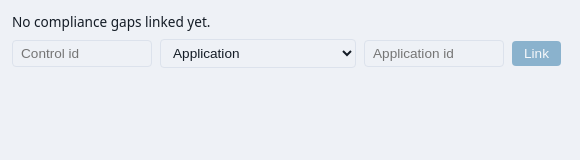
InitiativeControlMappingEditor › surfaces a 409 as 'Already linked'
Type "CTRL-1" into the field with placeholder "Control id" at coordinates (82, 53), box [12,40,152,67]
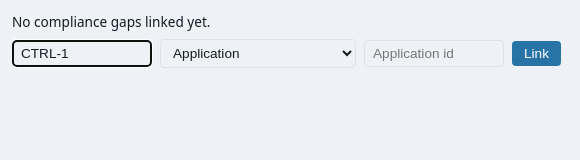
Type "APP-1" into the field with placeholder "Application id" at coordinates (434, 53), box [364,40,504,67]
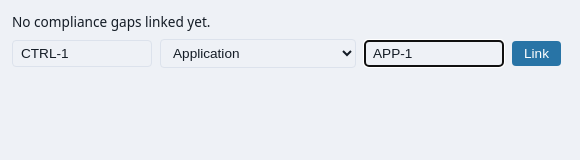
Click the button "Link" at coordinates (536, 53), box [512,41,561,66]
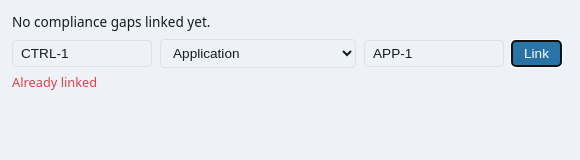
Result: the text "Already linked" is shown at [12,73,97,91]
